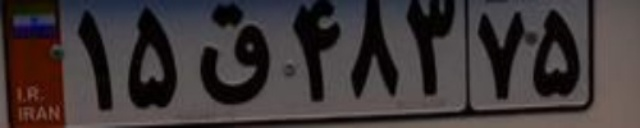1: (73, 8, 113, 111)
3: (405, 1, 458, 96)
4: (291, 1, 341, 103)
5: (122, 5, 178, 109), (533, 7, 583, 96)
7: (474, 10, 520, 100)
8: (347, 1, 400, 99)
ghaf: (194, 0, 274, 108)
